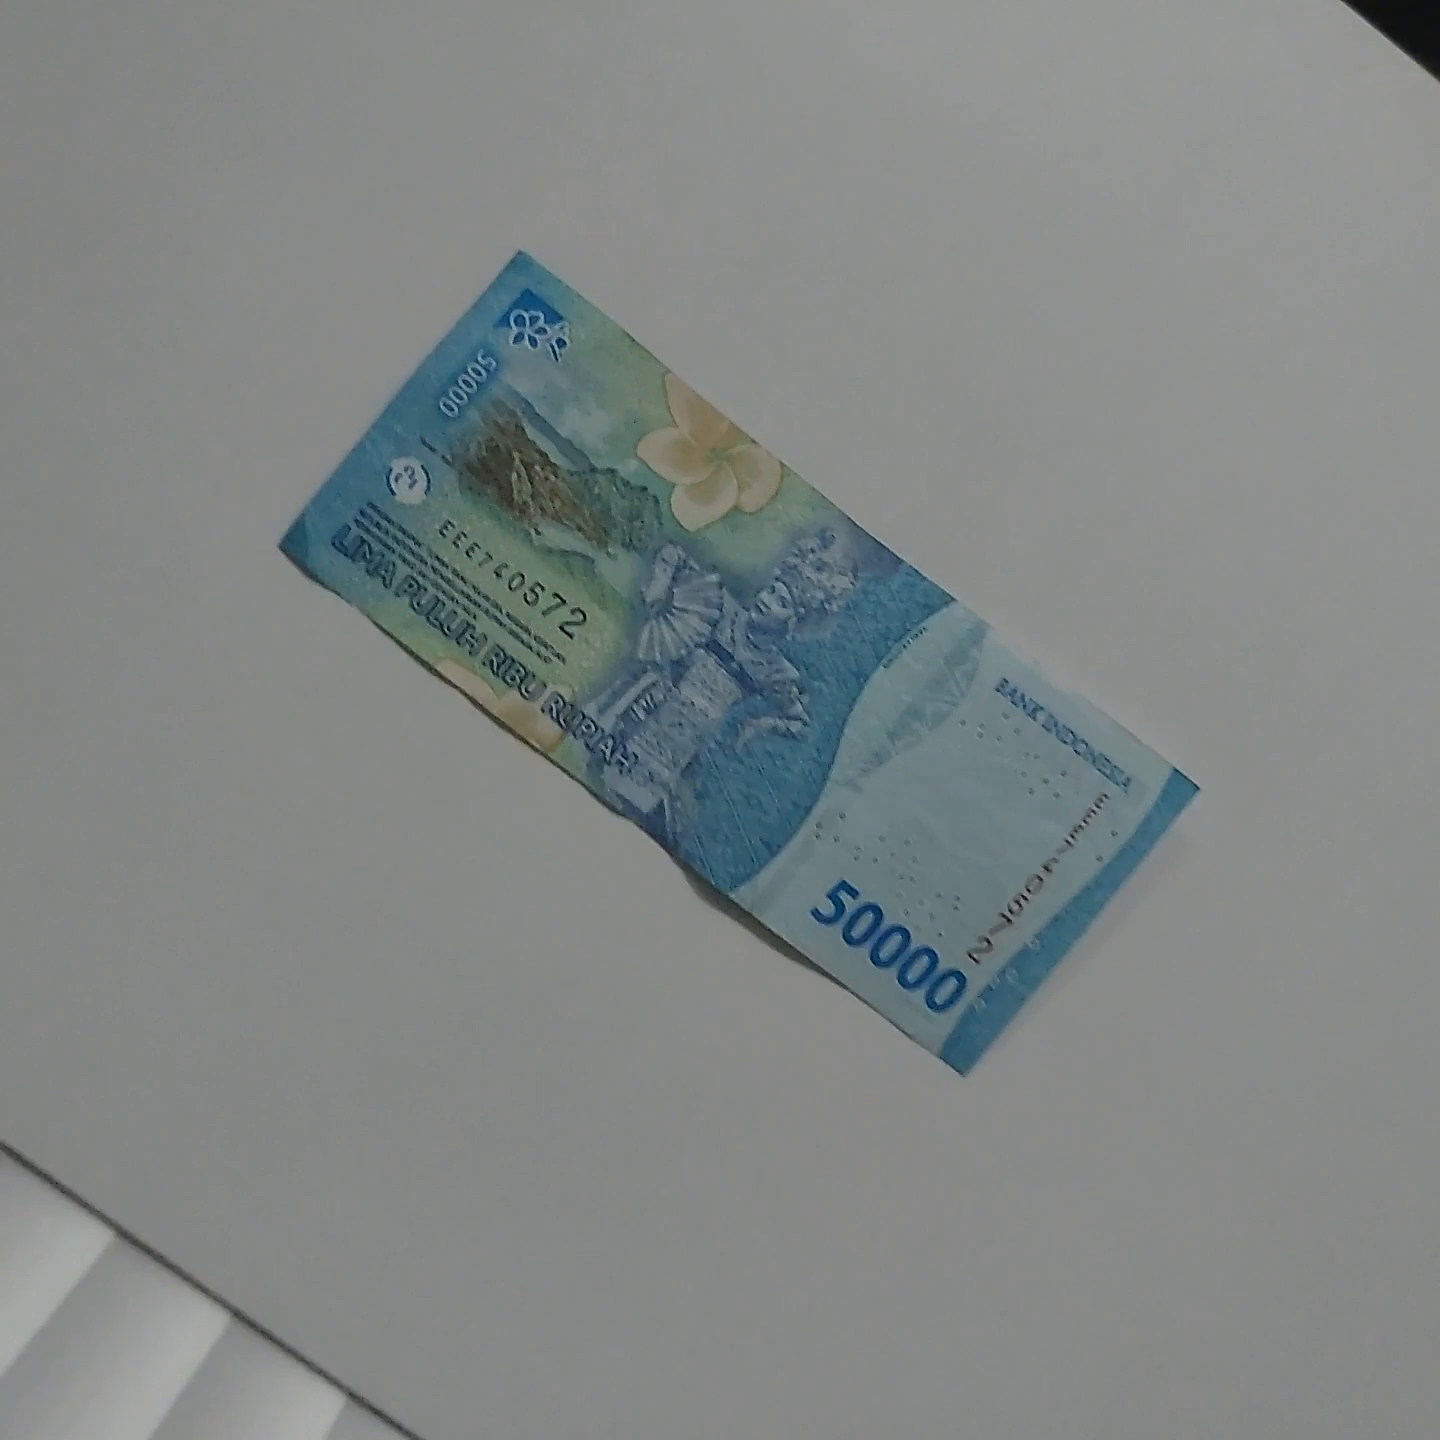50k: (563, 182, 1440, 696)
